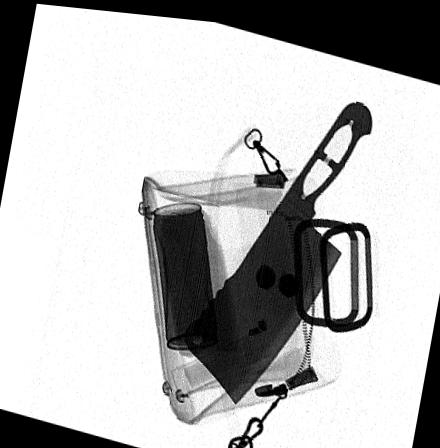Knife: (181, 91, 373, 401)
